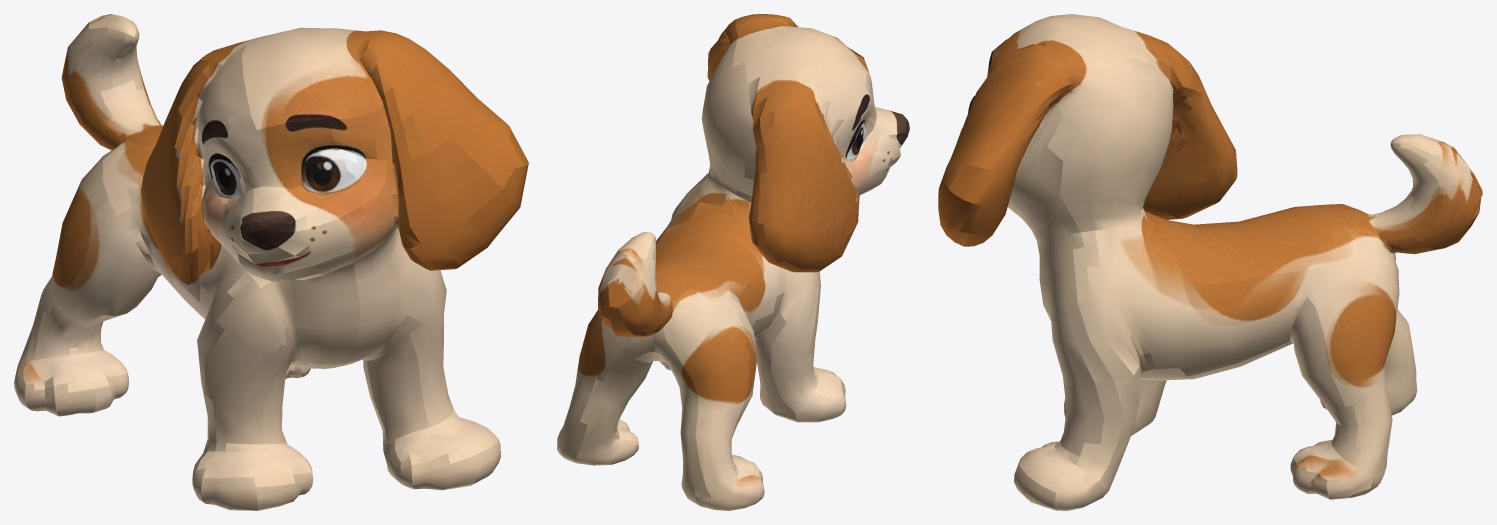
File: kopek.glb
3 renders of one model, left to right at view 1: azimuth 30°, elevation 25°; view 2: azimuth 150°, elevation 25°; view 3: azimuth 270°, elevation 25°, orthographic. The views are drawn at different scales.
Visible parts, largest first — view 1: Mesh0; view 2: Mesh0; view 3: Mesh0.
Part boxes in pixels (box(x1,y1,x2,y2)): Mesh0: box(14, 14, 528, 510); Mesh0: box(557, 14, 909, 510); Mesh0: box(938, 14, 1482, 510).
Bounding box in the file's own units: 1.09 × 1.58 × 1.89.
Materials: 1 (1 with a texture image).
